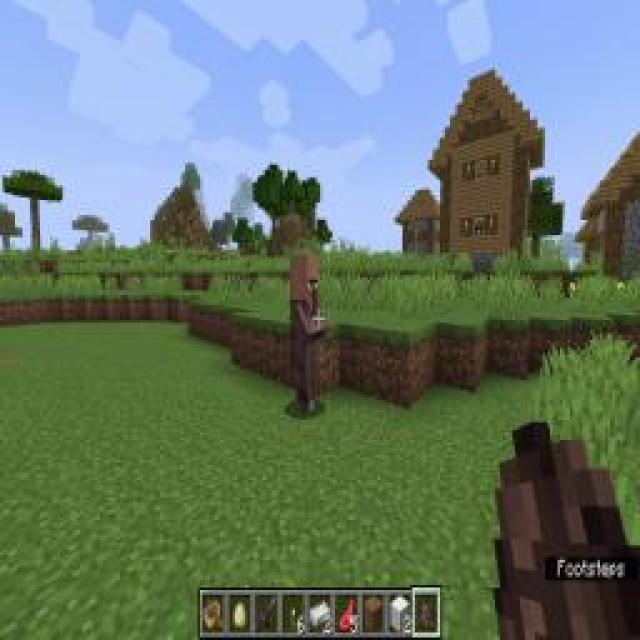Villager House: (286, 249, 329, 416)
